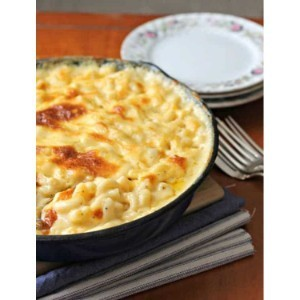cheese_brain food: (53, 104, 174, 187)
